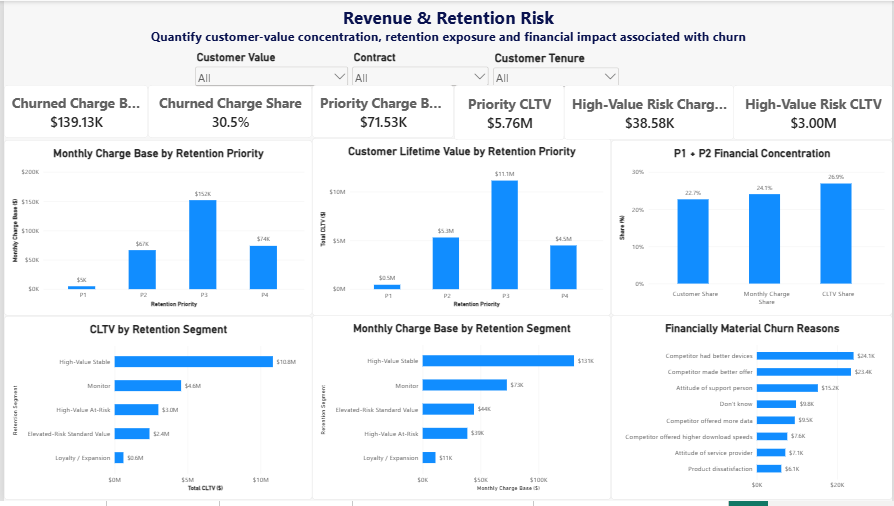

Layout of this report page (visuals, bound fields, positions):
{"tool":"powerbi","page":{"name":"Revenue & Retention Risk","canvas":[1920,1080],"ordinal":3},"visuals":[{"type":"cardVisual","fields":{"Data":["_Measures.Churned Monthly Charge Base"]},"box":[0,181.4,311,114.5],"z":0},{"type":"cardVisual","fields":{"Data":["_Measures.Churned Monthly Charge Share %"]},"box":[310.8,180.8,354.9,114.6],"z":1000},{"type":"textbox","box":[0,8.8,1920,99.2],"z":2000},{"type":"slicer","fields":{"Values":["Customer Detail.tenure_band"]},"box":[1051.9,108,280.8,82.2],"z":3000},{"type":"slicer","fields":{"Values":["Customer Detail.customer_value_segment"]},"box":[408.2,108,340.2,79.9],"z":4000},{"type":"slicer","fields":{"Values":["Customer Detail.contract"]},"box":[747.4,108,303.6,77.6],"z":5000},{"type":"cardVisual","fields":{"Data":["_Measures.Priority Monthly Charge Base"]},"box":[665.7,180.8,306.4,114.6],"z":6000},{"type":"clusteredColumnChart","title":"Monthly Charge Base by Retention Priority","fields":{"Category":["Customer Detail.retention_priority_short"],"Y":["_Measures.Total Monthly Charge Base"]},"box":[0,299.8,665.7,379.2],"z":7000},{"type":"clusteredColumnChart","title":"Customer Lifetime Value by Retention Priority","fields":{"Category":["Customer Detail.retention_priority_short"],"Y":["_Measures.Total CLTV"]},"box":[665.7,295.4,645.9,383.6],"z":8000},{"type":"clusteredColumnChart","title":"P1 + P2 Financial Concentration","fields":{"Category":["Priority Share Metrics.Metric"],"Y":["_Measures.Priority Financial Concentration %"]},"box":[1311.6,299.8,608.4,379.2],"z":9000},{"type":"clusteredBarChart","title":"CLTV by Retention Segment","fields":{"Category":["Customer Detail.retention_segment"],"Y":["_Measures.Total CLTV"]},"box":[0,681.1,665.7,396.8],"z":10000},{"type":"clusteredBarChart","title":"Monthly Charge Base by Retention Segment","fields":{"Category":["Customer Detail.retention_segment"],"Y":["_Measures.Total Monthly Charge Base"]},"box":[665.7,678.9,645.9,399],"z":11000},{"type":"clusteredBarChart","title":"Financially Material Churn Reasons","fields":{"Category":["Customer Detail.churn_reason_display"],"Y":["_Measures.Churned Monthly Charge Base"]},"box":[1311.6,678.9,608.4,399],"z":12000},{"type":"cardVisual","fields":{"Data":["_Measures.Priority CLTV"]},"box":[972.1,180.8,238.1,119],"z":13000},{"type":"cardVisual","fields":{"Data":["_Measures.High-Value At-Risk Monthly Charge Base"]},"box":[1209.6,181.4,367.2,118.8],"z":14000},{"type":"cardVisual","fields":{"Data":["_Measures.High-Value At-Risk CLTV"]},"box":[1574.6,181.4,345.6,118.8],"z":15000}]}

Visuals, with their boxes in screenshot pixels (x1, y1, x2, y2), scaled from the page's 1920x1080 canvas onto the 894x506 screenshot:
cardVisual - _Measures.Churned Monthly Charge Base: l=0, t=85, r=145, b=139
cardVisual - _Measures.Churned Monthly Charge Share %: l=145, t=85, r=310, b=138
textbox: l=0, t=4, r=893, b=51
slicer - Customer Detail.tenure_band: l=490, t=51, r=621, b=89
slicer - Customer Detail.customer_value_segment: l=190, t=51, r=348, b=88
slicer - Customer Detail.contract: l=348, t=51, r=489, b=87
cardVisual - _Measures.Priority Monthly Charge Base: l=310, t=85, r=453, b=138
"Monthly Charge Base by Retention Priority" clusteredColumnChart: l=0, t=140, r=310, b=318
"Customer Lifetime Value by Retention Priority" clusteredColumnChart: l=310, t=138, r=611, b=318
"P1 + P2 Financial Concentration" clusteredColumnChart: l=611, t=140, r=893, b=318
"CLTV by Retention Segment" clusteredBarChart: l=0, t=319, r=310, b=505
"Monthly Charge Base by Retention Segment" clusteredBarChart: l=310, t=318, r=611, b=505
"Financially Material Churn Reasons" clusteredBarChart: l=611, t=318, r=893, b=505
cardVisual - _Measures.Priority CLTV: l=453, t=85, r=563, b=140
cardVisual - _Measures.High-Value At-Risk Monthly Charge Base: l=563, t=85, r=734, b=141
cardVisual - _Measures.High-Value At-Risk CLTV: l=733, t=85, r=893, b=141
